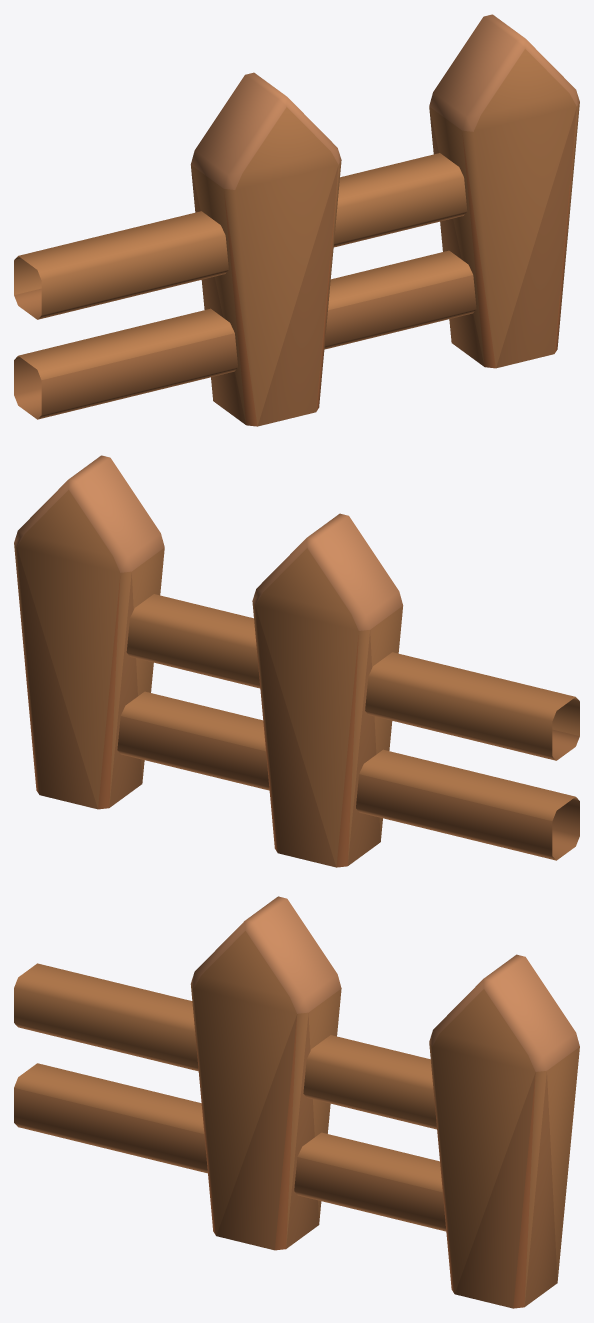
Rendered from itch_tiny_homely_house_fence_open_long.glb.
3 views of the same model, one above another, from view 1: azimuth 30°, elevation 25°; view 2: azimuth 150°, elevation 25°; view 3: azimuth 330°, elevation 25° (orthographic).
Parts seen in each view (by area): view 1: fence_open_long; view 2: fence_open_long; view 3: fence_open_long.
Boxes of the visible parts, bbox=[...] form: fence_open_long: bbox=[14, 14, 579, 426]; fence_open_long: bbox=[14, 455, 579, 867]; fence_open_long: bbox=[14, 896, 579, 1308].
Size of the model in its own units: 1.18 by 0.6706 by 0.1575.
